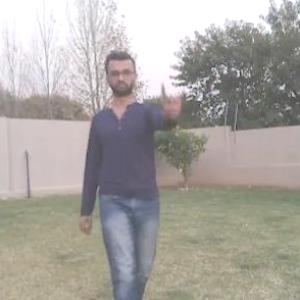takeoff-hand: (155, 77, 188, 116)
